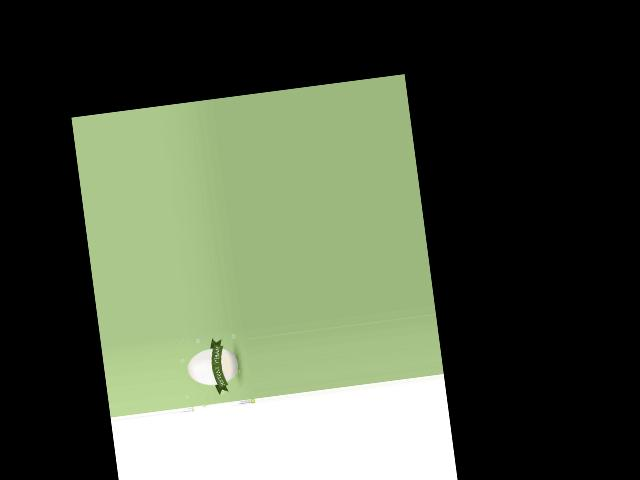egg: (185, 346, 240, 388)
